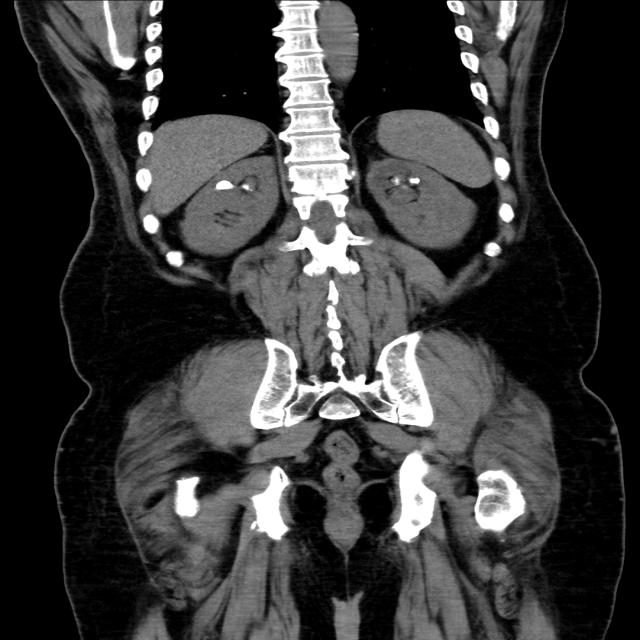kidneystone: (215, 180, 233, 190), (408, 178, 421, 184), (241, 181, 247, 189)
